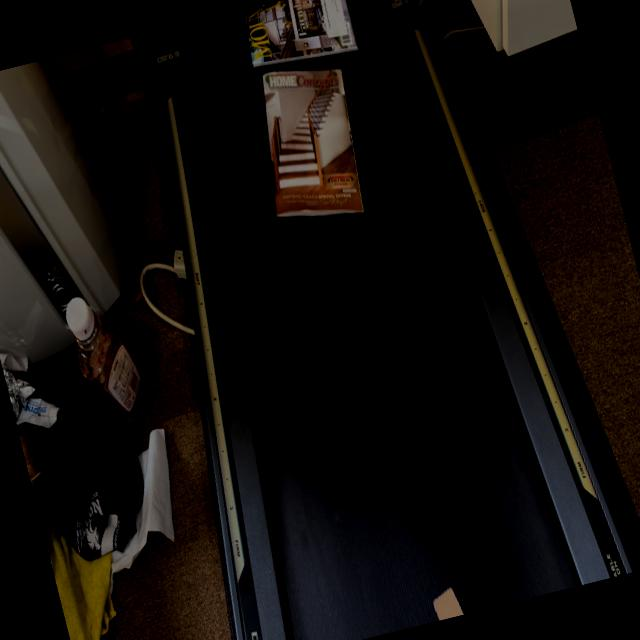Recycle: (240, 53, 378, 236), (237, 0, 360, 76), (427, 584, 465, 622)
